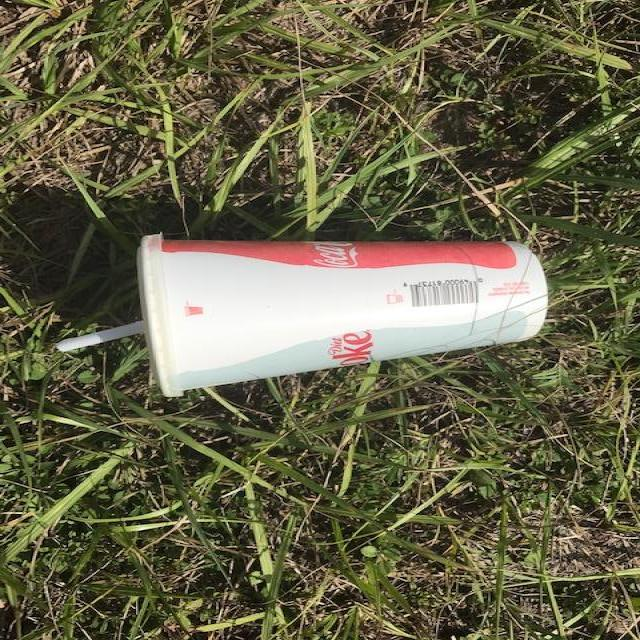litter: (309, 67, 531, 377), (427, 375, 471, 439)
